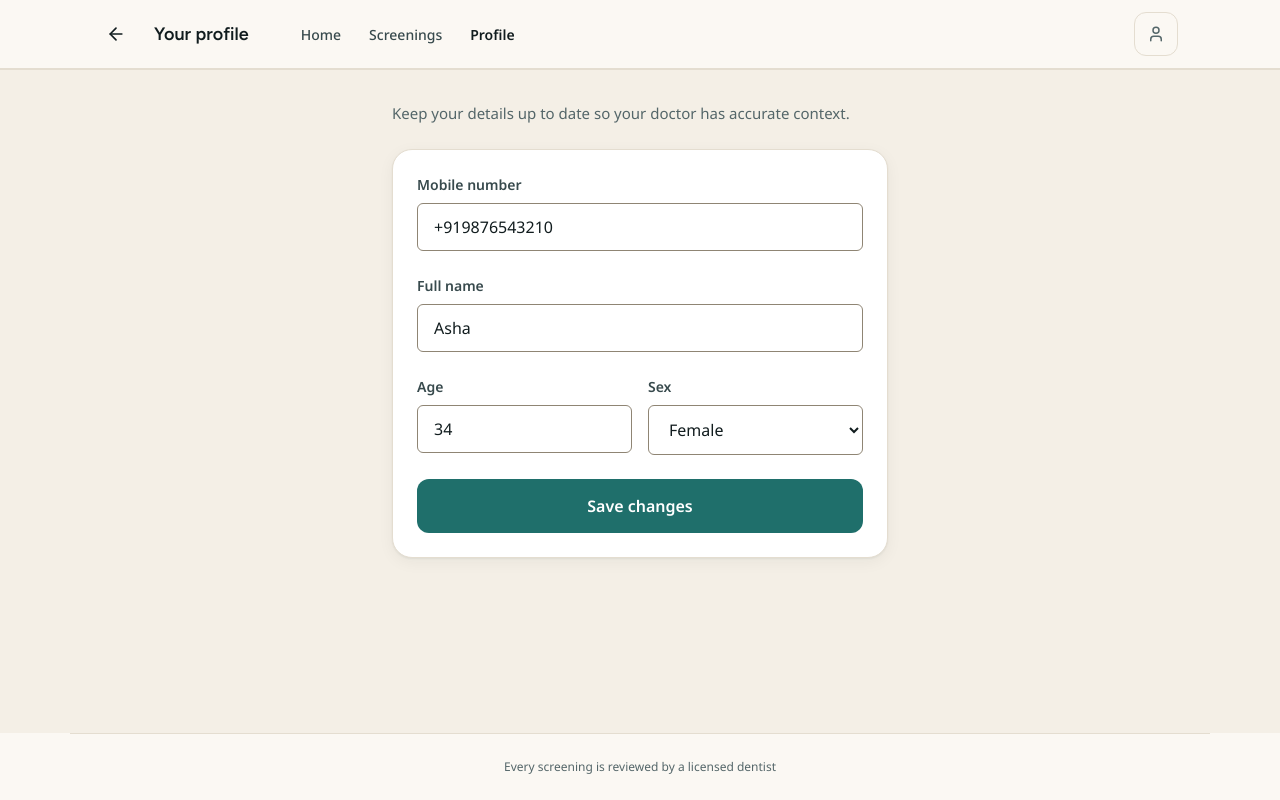
it: saving › disables save while the name is empty
Clear the field labelled "Full name" at [640, 328], box [417, 304, 863, 352]
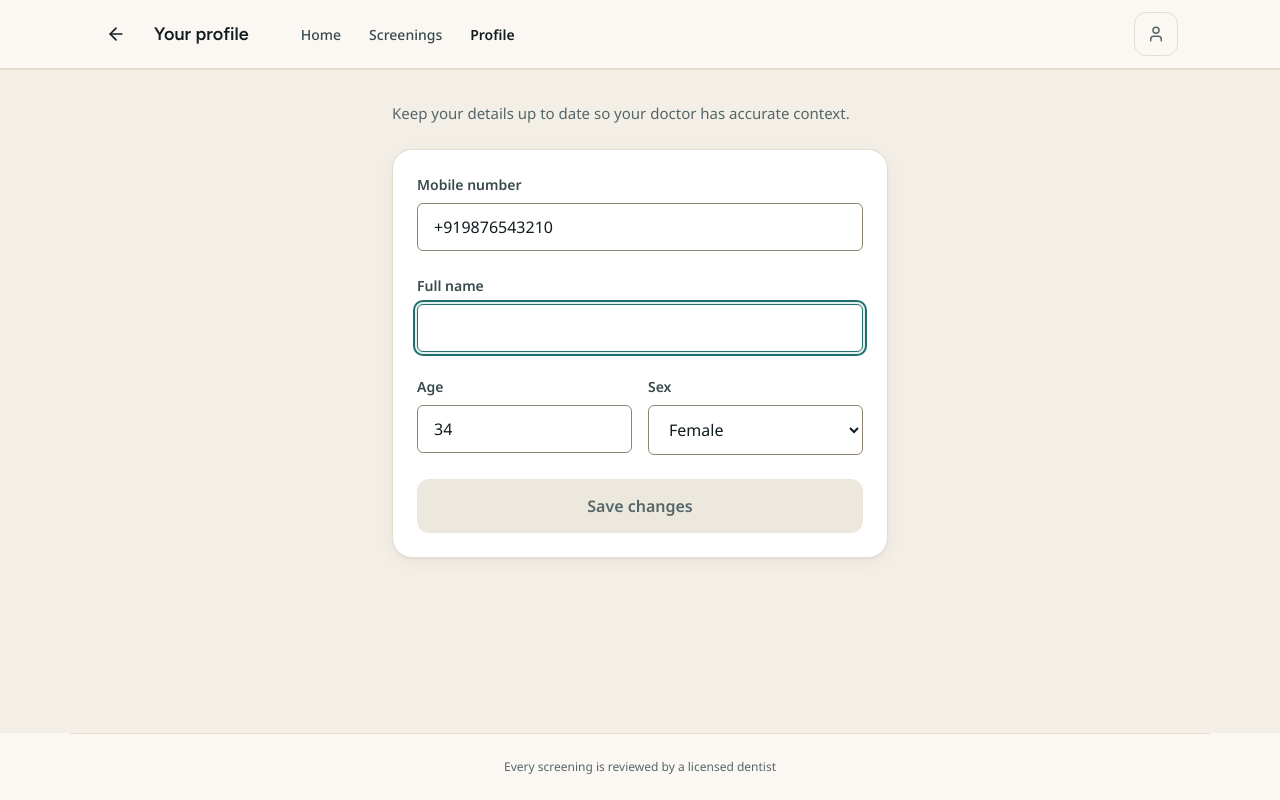
Expected: the button "Save changes" is disabled, [417, 478, 863, 532]
